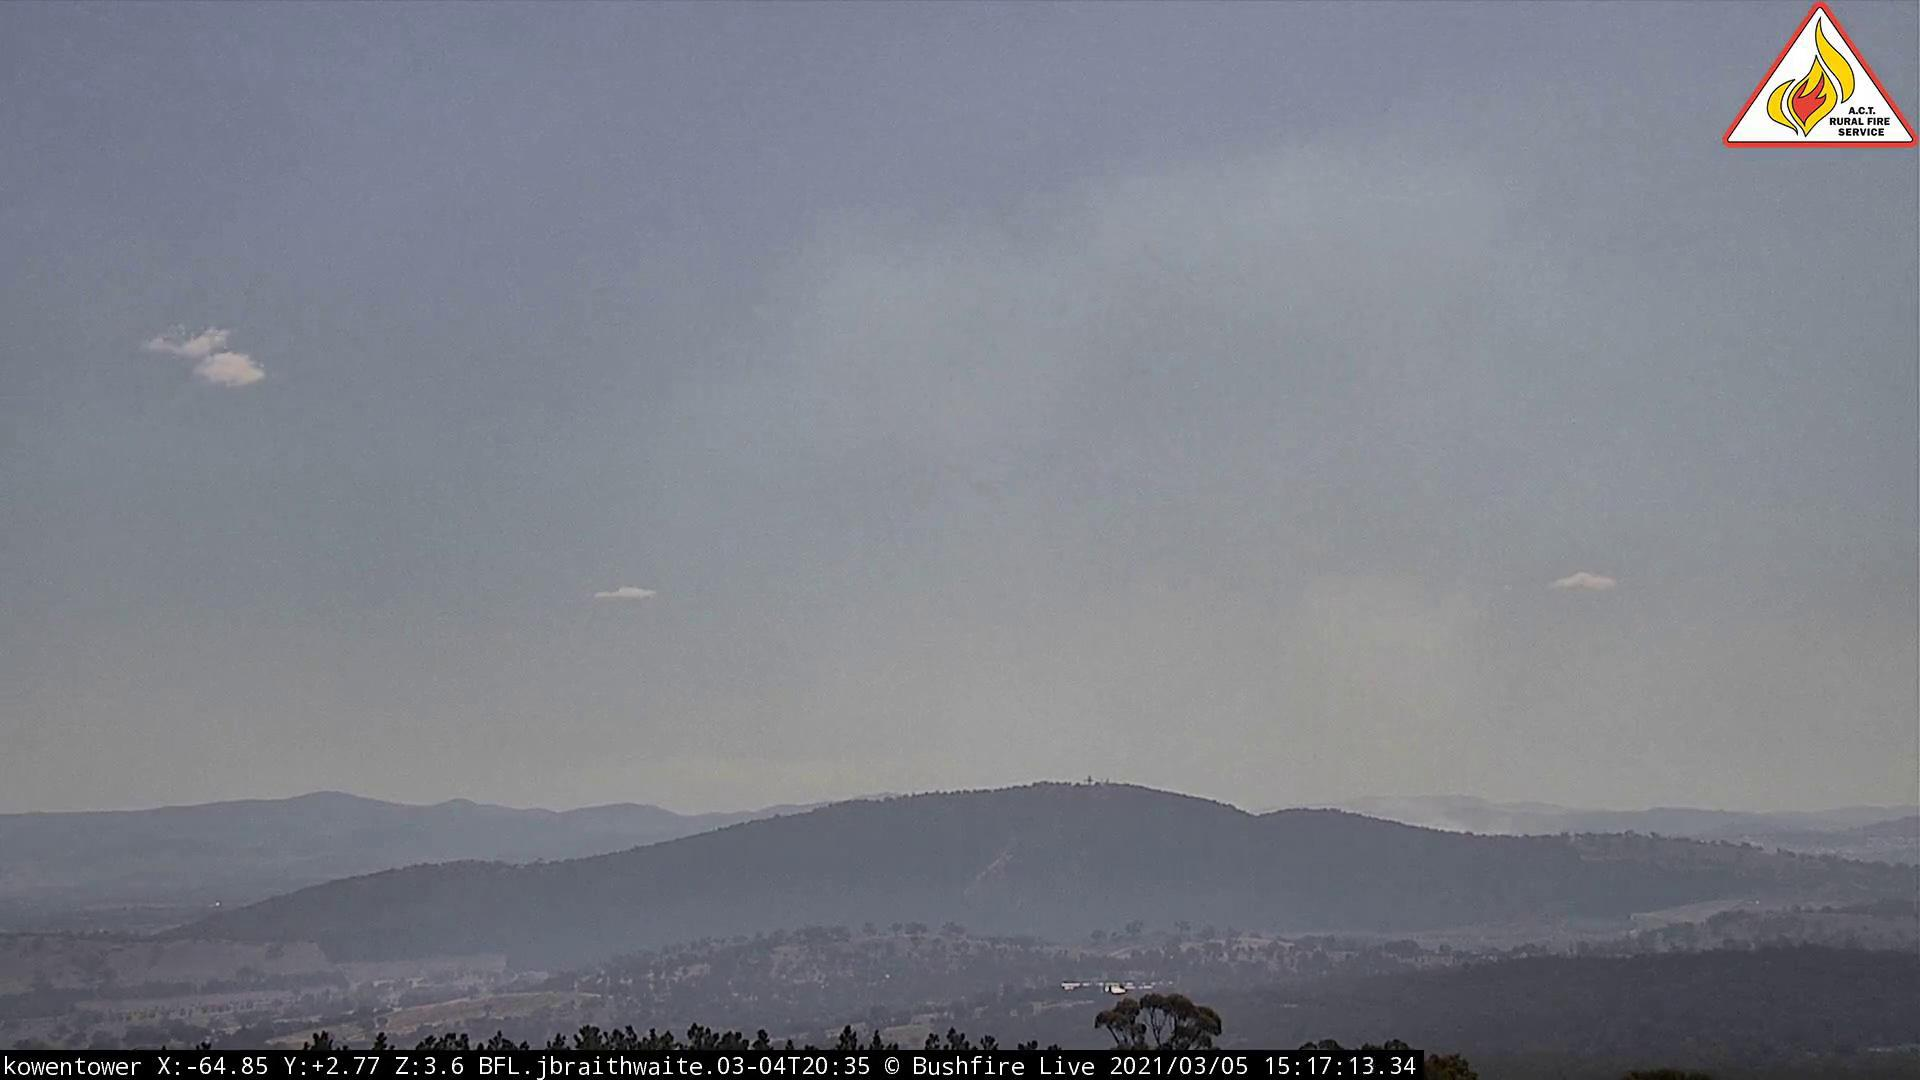Smoke: (1088, 450, 1568, 851)
